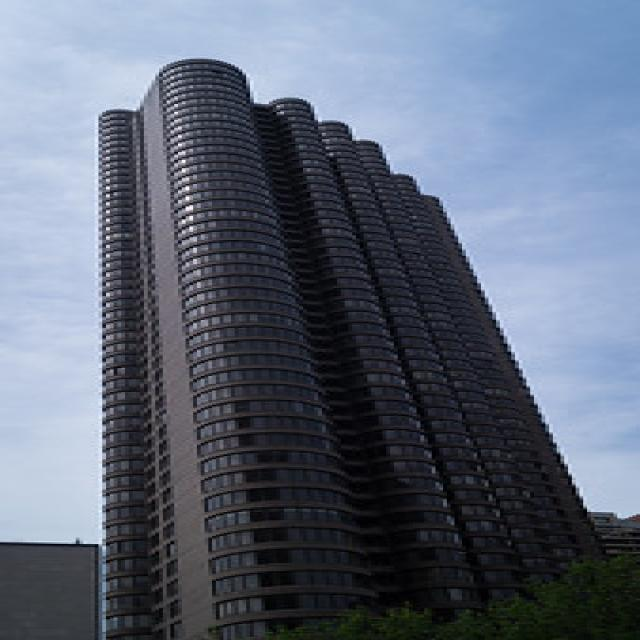building: (83, 54, 640, 640)
